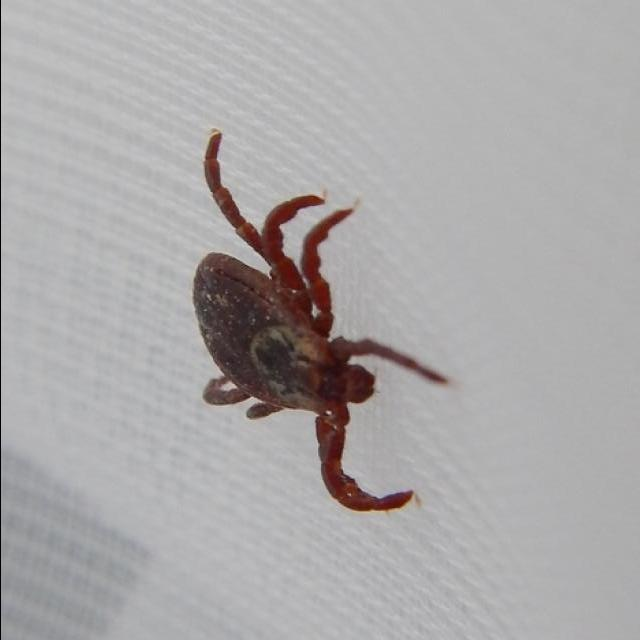Dermacentor Reticulatus-F: (191, 136, 447, 513)
